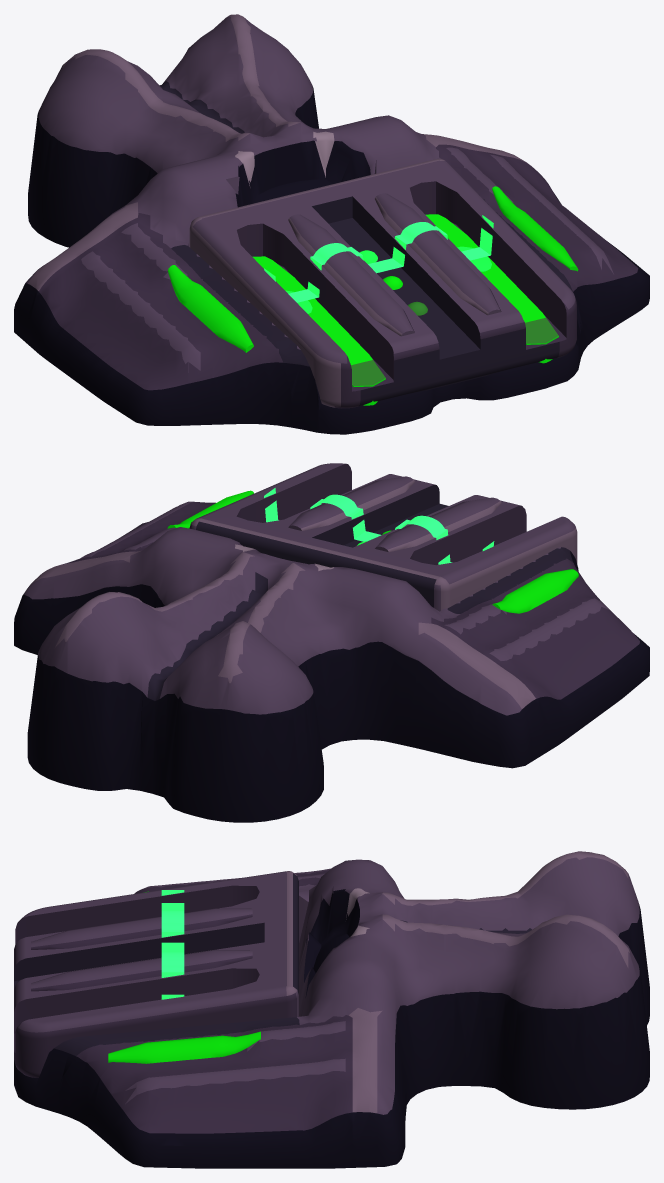
The model's file is purple_beacon_7.glb.
3 renders of one model, top to bottom at view 1: azimuth 30°, elevation 25°; view 2: azimuth 150°, elevation 25°; view 3: azimuth 270°, elevation 25°, orthographic. The views are drawn at different scales.
Parts seen in each view (by area): view 1: body, block, ridge1, ridge-1, floor-1, floor1, strip1, bar, strip-1; view 2: body, block, ridge-1, ridge1, bar, strip1, strip-1; view 3: body, block, ridge-1, ridge1, strip-1, bar.
Boxes of the visible parts, bbox=[...] form: body: bbox=[14, 14, 649, 434]; block: bbox=[189, 158, 576, 408]; ridge1: bbox=[375, 193, 501, 315]; ridge-1: bbox=[288, 214, 414, 336]; floor-1: bbox=[252, 256, 385, 405]; floor1: bbox=[425, 214, 558, 363]; strip1: bbox=[168, 265, 253, 352]; bar: bbox=[264, 215, 493, 302]; strip-1: bbox=[492, 186, 578, 271]; body: bbox=[14, 501, 649, 822]; block: bbox=[189, 463, 577, 611]; ridge-1: bbox=[375, 497, 501, 552]; ridge1: bbox=[288, 476, 414, 530]; bar: bbox=[264, 488, 494, 564]; strip1: bbox=[492, 569, 578, 613]; strip-1: bbox=[167, 490, 253, 528]; body: bbox=[14, 851, 649, 1168]; block: bbox=[14, 871, 298, 1077]; ridge-1: bbox=[31, 908, 252, 949]; ridge1: bbox=[31, 949, 252, 991]; strip-1: bbox=[108, 1031, 260, 1063]; bar: bbox=[161, 890, 184, 999].
Bounding box in the file's own units: 24 × 7.25 × 26.
